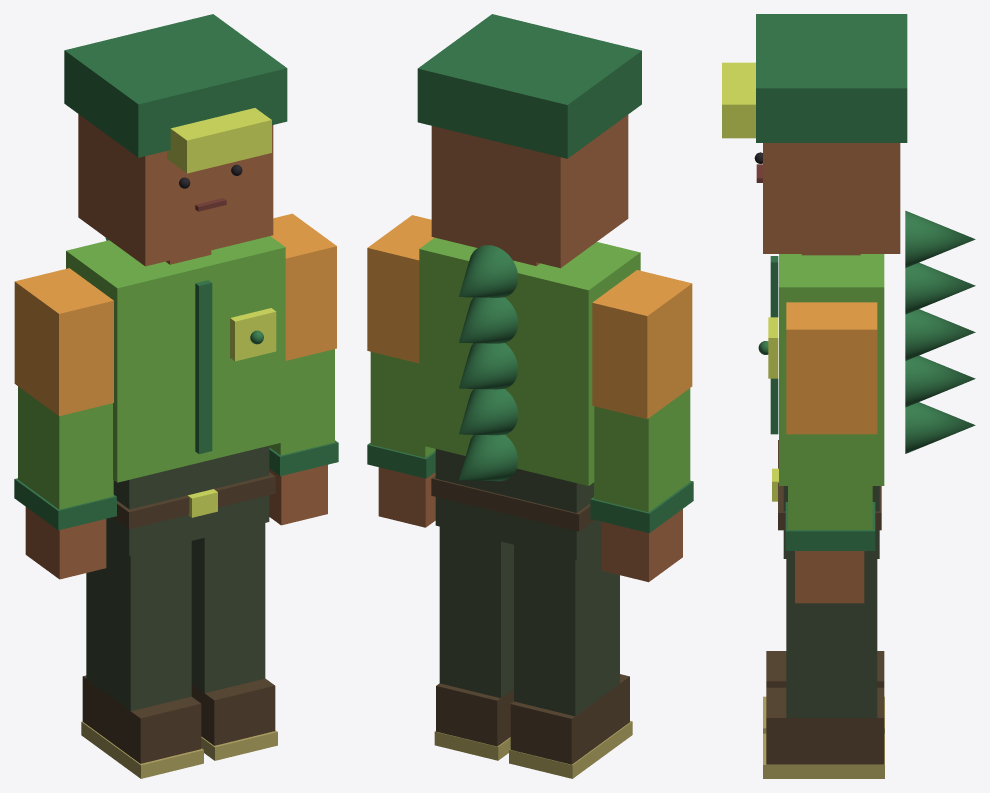
File: rex_dino_defender.glb
3 renders of one model, left to right at view 1: azimuth 30°, elevation 25°; view 2: azimuth 150°, elevation 25°; view 3: azimuth 270°, elevation 25°, orthographic. The views are drawn at different scales.
Visible parts, largest first — view 1: rex_dino_defender_torso, rex_dino_defender_dino_hood, rex_dino_defender_head, rex_dino_defender_left_leg, rex_dino_defender_left_upper_sleeve, rex_dino_defender_right_leg, rex_dino_defender_waist, rex_dino_defender_left_forearm, rex_dino_defender_right_upper_sleeve, rex_dino_defender_left_boot, rex_dino_defender_right_forearm, rex_dino_defender_dino_snout (+11 smaller); view 2: rex_dino_defender_torso, rex_dino_defender_dino_hood, rex_dino_defender_head, rex_dino_defender_left_leg, rex_dino_defender_left_upper_sleeve, rex_dino_defender_right_leg, rex_dino_defender, rex_dino_defender_left_forearm, rex_dino_defender_waist, rex_dino_defender_right_upper_sleeve, rex_dino_defender_left_boot, rex_dino_defender_right_forearm (+8 smaller); view 3: rex_dino_defender_dino_hood, rex_dino_defender_head, rex_dino_defender_right_upper_sleeve, rex_dino_defender_right_leg, rex_dino_defender, rex_dino_defender_torso, rex_dino_defender_right_forearm, rex_dino_defender_right_boot, rex_dino_defender_right_hand, rex_dino_defender_dino_snout, rex_dino_defender_right_cuff, rex_dino_defender_right_sole (+5 smaller).
Part boxes in pixels (box(x1,y1,x2,y2)): rex_dino_defender_torso: box(66, 236, 285, 482); rex_dino_defender_dino_hood: box(64, 14, 287, 157); rex_dino_defender_head: box(78, 114, 273, 266); rex_dino_defender_left_leg: box(86, 539, 191, 711); rex_dino_defender_left_upper_sleeve: box(14, 268, 113, 416); rex_dino_defender_right_leg: box(191, 523, 265, 693); rex_dino_defender_waist: box(106, 446, 269, 555); rex_dino_defender_left_forearm: box(18, 386, 113, 509); rex_dino_defender_right_upper_sleeve: box(271, 213, 336, 360); rex_dino_defender_left_boot: box(82, 675, 201, 763); rex_dino_defender_right_forearm: box(269, 349, 334, 455); rex_dino_defender_dino_snout: box(167, 108, 271, 173); rex_dino_defender_torso: box(419, 237, 640, 485); rex_dino_defender_dino_hood: box(417, 14, 641, 158); rex_dino_defender_head: box(431, 115, 628, 268); rex_dino_defender_left_leg: box(514, 542, 619, 716); rex_dino_defender_left_upper_sleeve: box(592, 270, 692, 418); rex_dino_defender_right_leg: box(439, 526, 513, 698); rex_dino_defender: box(459, 245, 517, 481); rex_dino_defender_left_forearm: box(594, 388, 690, 512); rex_dino_defender_waist: box(435, 449, 601, 559); rex_dino_defender_right_upper_sleeve: box(367, 215, 434, 363); rex_dino_defender_left_boot: box(510, 674, 629, 764); rex_dino_defender_right_forearm: box(370, 352, 435, 457); rex_dino_defender_dino_hood: box(756, 14, 907, 142); rex_dino_defender_head: box(763, 143, 900, 253); rex_dino_defender_right_upper_sleeve: box(786, 302, 877, 434); rex_dino_defender_right_leg: box(786, 559, 877, 717); rex_dino_defender: box(905, 210, 975, 453); rex_dino_defender_torso: box(779, 254, 884, 485); rex_dino_defender_right_forearm: box(788, 434, 872, 529); rex_dino_defender_right_boot: box(766, 687, 884, 764); rex_dino_defender_right_hand: box(795, 551, 864, 603); rex_dino_defender_dino_snout: box(722, 62, 755, 138); rex_dino_defender_right_cuff: box(785, 502, 875, 550); rex_dino_defender_right_sole: box(763, 733, 884, 778).
Size of the model in its own units: 0.516 by 1.19 by 0.396.
